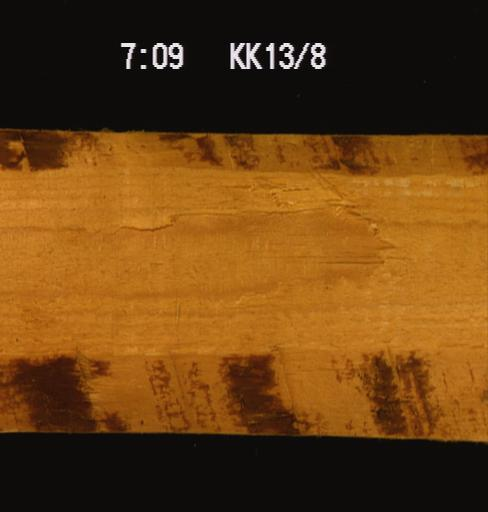split: (307, 249, 392, 269)
wave: (0, 341, 487, 440), (0, 133, 487, 182)
